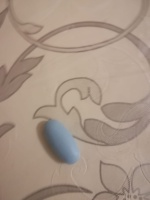Apranax: (42, 119, 80, 166)
